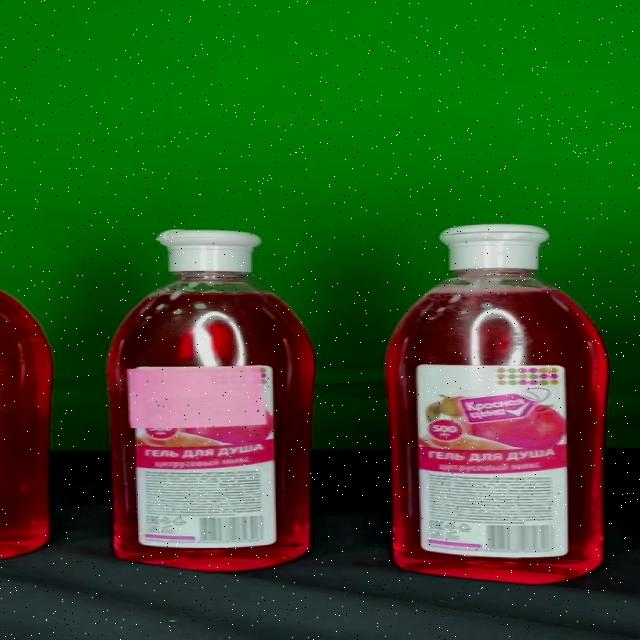Bottle: (386, 225, 608, 584), (107, 228, 315, 571)
Cap: (439, 225, 550, 268), (159, 229, 264, 273)
